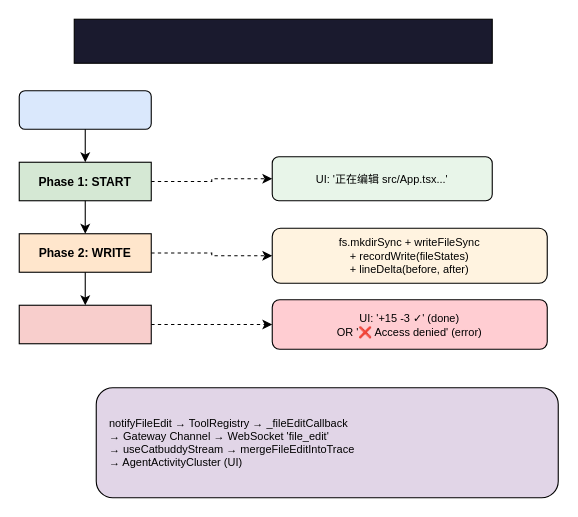
The diagram is 578 pixels wide and 517 high, and some of its shapes have lost their labels. The box of each missing label's shape, as (x1, y1, x2, y2) in pixels:
FileEditEvent — 三阶段通知机制: (73, 18, 492, 63)
Phase 3: END/ERROR: (18, 304, 151, 344)
Tool.execute(): (18, 90, 151, 129)
